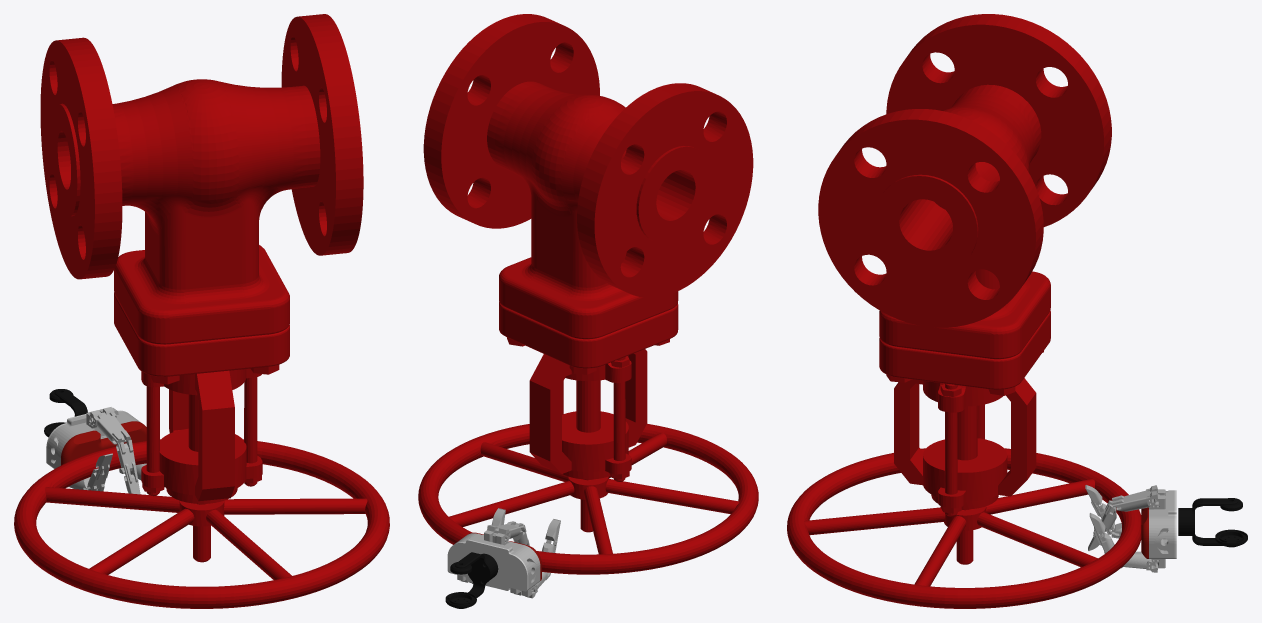
Rendered from HandO2_small_with_valve.obj.
3 renders of one model, left to right at view 1: azimuth 30°, elevation 25°; view 2: azimuth 150°, elevation 25°; view 3: azimuth 270°, elevation 25°, orthographic. The views are drawn at different scales.
Parts seen in each view (by area): view 1: ASME_B16.10_Gate_Valve_Flanges_Ends_-_Class_150_1, Hand_ball_-_palmPadMountingPAD-1.001_Hand_ball_-_palmPadMounting, Hand_ball_-_Finger_Proximal-2.001_Hand_ball_-_Finger_Proximal-2., Hand_ball_-_Finger_Distal-3.001_Hand_ball_-_Finger_Distal-3.000, Hand_ball_-_Finger_Distal-2.001_Hand_ball_-_Finger_Distal-2.000, Hand_ball_-_ShaftSupport-1.001_Hand_ball_-_ShaftSupport-1.000, Hand_ball_-_FingerMountingTopPlate-1.001_Hand_ball_-_FingerMount, wrist_yaw_right.002; view 2: ASME_B16.10_Gate_Valve_Flanges_Ends_-_Class_150_1, Hand_ball_-_ShaftSupport_underplate-1.001_Hand_ball_-_ShaftSuppo, wrist_yaw_right.002, Hand_ball_-_ShaftSupport-1.001_Hand_ball_-_ShaftSupport-1.000; view 3: ASME_B16.10_Gate_Valve_Flanges_Ends_-_Class_150_1, wrist_yaw_right.002, Hand_ball_-_Finger_Proximal-2.001_Hand_ball_-_Finger_Proximal-2., Hand_ball_-_ShaftSupport-1.001_Hand_ball_-_ShaftSupport-1.000, Hand_ball_-_FingerMountingTopPlate-1.001_Hand_ball_-_FingerMount.
Part boxes in pixels (box(x1,y1,x2,y2)): ASME_B16.10_Gate_Valve_Flanges_Ends_-_Class_150_1: box(14, 14, 389, 608); Hand_ball_-_palmPadMountingPAD-1.001_Hand_ball_-_palmPadMounting: box(61, 421, 146, 465); Hand_ball_-_Finger_Proximal-2.001_Hand_ball_-_Finger_Proximal-2.: box(90, 407, 130, 444); Hand_ball_-_Finger_Distal-3.001_Hand_ball_-_Finger_Distal-3.000: box(116, 439, 140, 494); Hand_ball_-_Finger_Distal-2.001_Hand_ball_-_Finger_Distal-2.000: box(87, 453, 112, 491); Hand_ball_-_ShaftSupport-1.001_Hand_ball_-_ShaftSupport-1.000: box(47, 408, 130, 466); Hand_ball_-_FingerMountingTopPlate-1.001_Hand_ball_-_FingerMount: box(51, 413, 138, 468); wrist_yaw_right.002: box(49, 389, 87, 416); ASME_B16.10_Gate_Valve_Flanges_Ends_-_Class_150_1: box(418, 14, 758, 574); Hand_ball_-_ShaftSupport_underplate-1.001_Hand_ball_-_ShaftSuppo: box(447, 539, 528, 591); wrist_yaw_right.002: box(450, 552, 491, 608); Hand_ball_-_ShaftSupport-1.001_Hand_ball_-_ShaftSupport-1.000: box(455, 537, 537, 589); ASME_B16.10_Gate_Valve_Flanges_Ends_-_Class_150_1: box(787, 14, 1141, 608); wrist_yaw_right.002: box(1192, 498, 1242, 547); Hand_ball_-_Finger_Proximal-2.001_Hand_ball_-_Finger_Proximal-2.: box(1112, 485, 1157, 511); Hand_ball_-_ShaftSupport-1.001_Hand_ball_-_ShaftSupport-1.000: box(1155, 490, 1174, 558); Hand_ball_-_FingerMountingTopPlate-1.001_Hand_ball_-_FingerMount: box(1154, 491, 1168, 558).
Bounding box in the file's own units: 0.4993 × 0.7649 × 0.6463.
